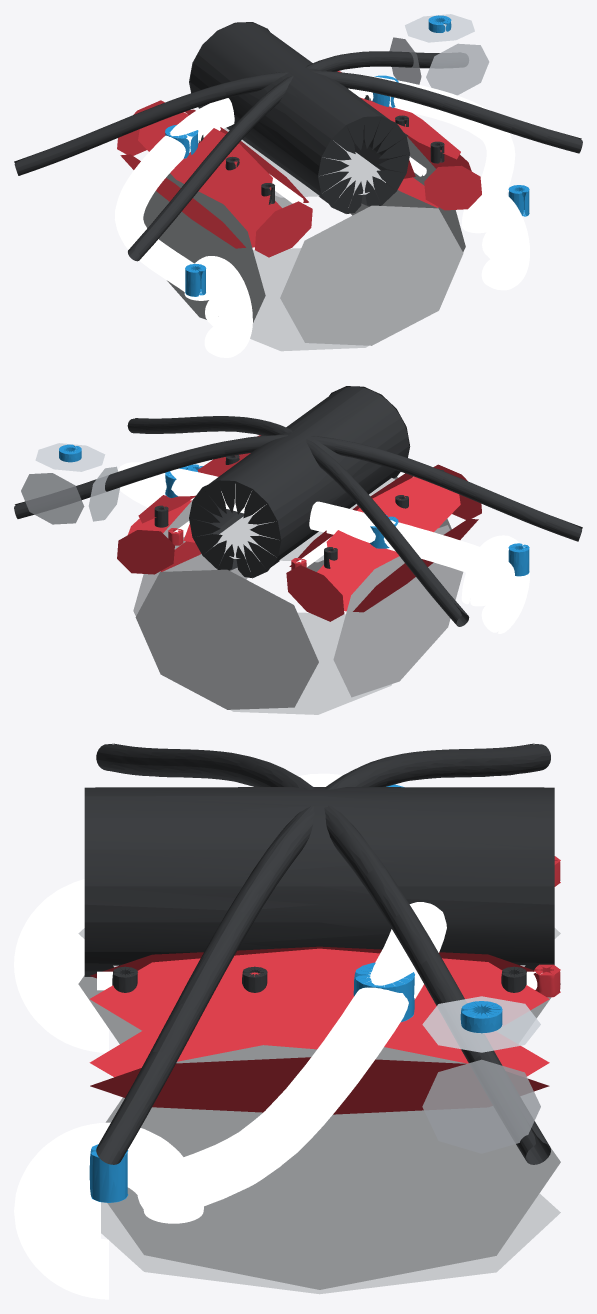
File: powertrain_bay.glb
3 renders of one model, top to bottom at view 1: azimuth 30°, elevation 25°; view 2: azimuth 150°, elevation 25°; view 3: azimuth 270°, elevation 25°, orthographic. The views are drawn at different scales.
Visible parts, largest first — view 1: Powertrain_Bay_Detailed_Assembly; view 2: Powertrain_Bay_Detailed_Assembly; view 3: Powertrain_Bay_Detailed_Assembly.
Boxes of the visible parts, x1,y1,x2,y2 form: Powertrain_Bay_Detailed_Assembly: (14, 14, 582, 357); Powertrain_Bay_Detailed_Assembly: (14, 386, 582, 714); Powertrain_Bay_Detailed_Assembly: (14, 743, 560, 1299).
Size of the model in its own units: 1.18 by 0.57 by 0.7023.
